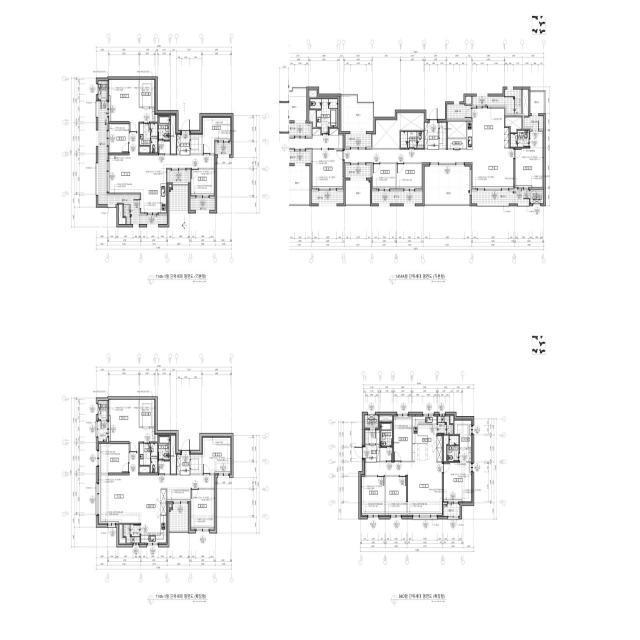space_balconi: (98, 101, 167, 224), (425, 166, 470, 204), (472, 89, 522, 114), (341, 96, 374, 131), (472, 190, 529, 204), (372, 192, 423, 204), (346, 180, 370, 204), (169, 186, 188, 211), (169, 506, 188, 531), (312, 191, 344, 204), (345, 134, 371, 147), (447, 104, 471, 118), (345, 166, 371, 178), (123, 525, 140, 543), (190, 198, 215, 210), (530, 92, 544, 113), (438, 416, 453, 434), (288, 123, 310, 135), (288, 151, 310, 163), (524, 116, 543, 128), (169, 171, 188, 183), (444, 504, 460, 516), (98, 421, 107, 441), (216, 143, 231, 155)
space_bedroom: (109, 80, 154, 132), (109, 400, 154, 452), (515, 131, 543, 187), (444, 449, 471, 502), (312, 150, 343, 188), (203, 437, 231, 473), (203, 117, 231, 153), (191, 490, 215, 529), (362, 477, 385, 515), (99, 444, 128, 473), (386, 477, 406, 515), (397, 164, 422, 189), (191, 170, 215, 196), (373, 164, 396, 189), (109, 124, 128, 153)
space_dressroom: (454, 421, 471, 448), (140, 400, 155, 427), (140, 80, 155, 107)
space_front: (425, 123, 439, 150), (177, 133, 190, 155), (363, 445, 379, 462), (177, 455, 190, 475)
space_kitchen: (467, 109, 509, 149), (412, 417, 442, 462), (141, 489, 166, 543), (141, 170, 166, 213)
space_living_room: (99, 453, 215, 523), (344, 148, 514, 188), (107, 132, 215, 194), (365, 463, 442, 515)
space_other: (373, 113, 424, 148), (289, 129, 343, 148), (394, 416, 411, 461), (448, 121, 466, 138), (167, 488, 190, 501), (505, 117, 522, 132), (191, 134, 202, 153), (191, 455, 202, 473), (365, 430, 379, 444), (171, 116, 176, 154), (171, 436, 176, 474), (448, 139, 466, 148), (158, 141, 170, 154), (158, 461, 170, 474), (440, 123, 446, 148), (381, 448, 392, 461), (523, 89, 528, 116), (309, 110, 316, 127), (119, 205, 125, 224), (119, 525, 125, 544), (444, 436, 448, 461), (139, 147, 149, 153), (380, 416, 392, 421), (309, 91, 316, 98), (466, 96, 471, 104), (450, 416, 453, 423), (155, 434, 157, 442), (155, 114, 157, 122), (169, 504, 171, 507), (169, 185, 171, 187)
space_outdoor_room: (530, 190, 543, 204), (98, 81, 107, 100), (98, 401, 107, 420), (365, 415, 378, 428)
space_toilet: (310, 99, 337, 134), (139, 443, 157, 473), (140, 124, 157, 153), (401, 132, 424, 148), (447, 436, 459, 461), (158, 436, 170, 460), (511, 131, 529, 147), (158, 116, 170, 140), (381, 423, 392, 446)
